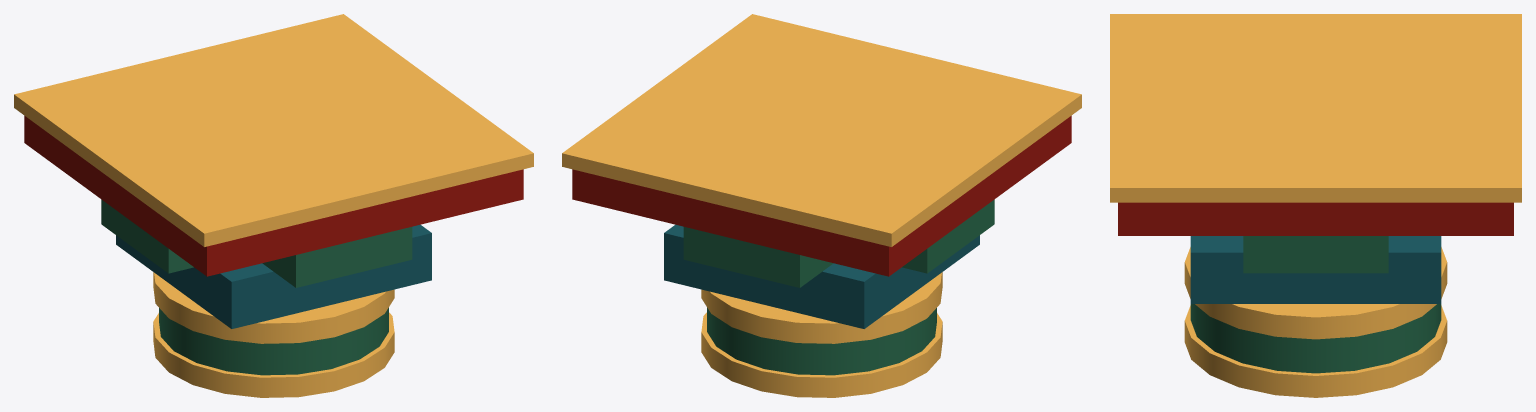
File: pillar_cap.glb
3 renders of one model, left to right at view 1: azimuth 30°, elevation 25°; view 2: azimuth 150°, elevation 25°; view 3: azimuth 270°, elevation 25°, orthographic. The views are drawn at different scales.
Parts seen in each view (by area): view 1: pillar_cap; view 2: pillar_cap; view 3: pillar_cap.
Boxes of the visible parts, bbox=[...] form: pillar_cap: bbox=[14, 14, 533, 397]; pillar_cap: bbox=[562, 14, 1081, 397]; pillar_cap: bbox=[1110, 14, 1521, 397].
Bounding box in the file's own units: 1.02 × 0.66 × 1.02.
